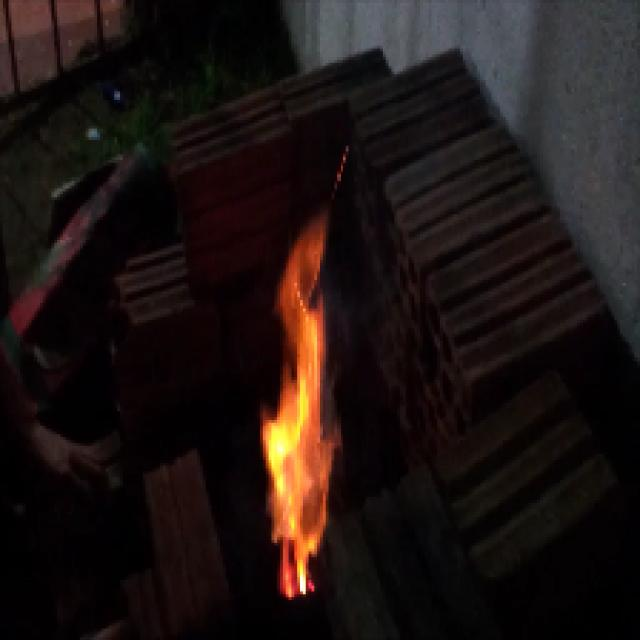fire: (239, 215, 358, 602)
